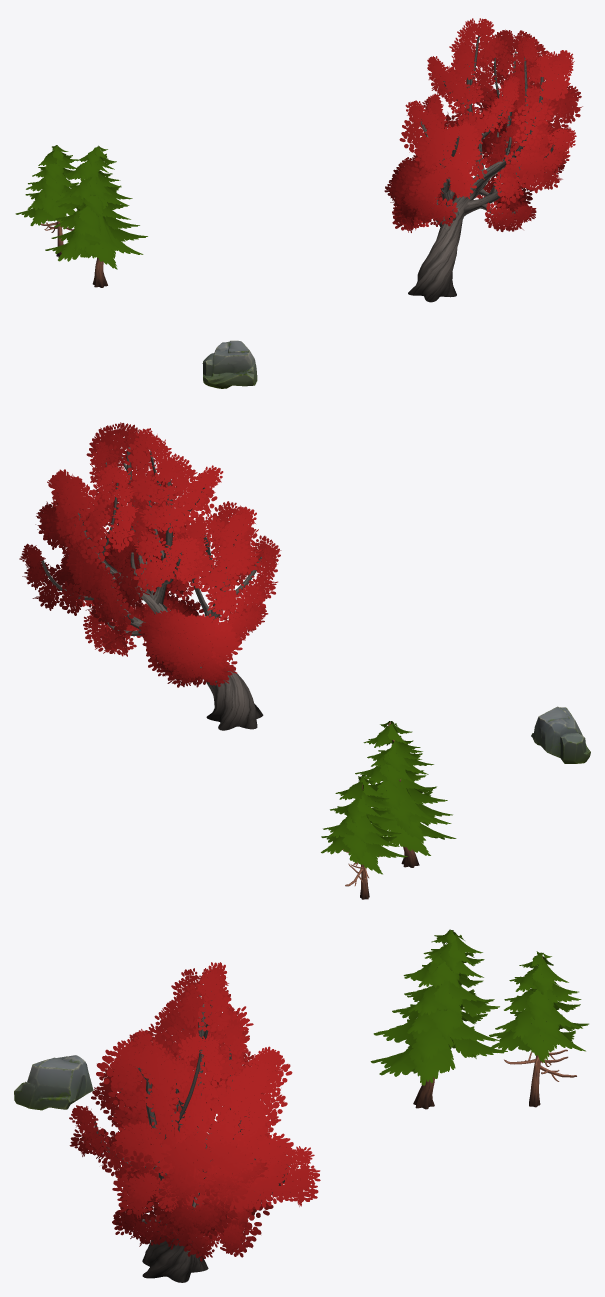
The model's file is TREEZ_NATURE Pack TST.glb.
The picture shows the model from 3 angles, top to bottom: view 1: azimuth 30°, elevation 25°; view 2: azimuth 150°, elevation 25°; view 3: azimuth 270°, elevation 25°; orthographic projection. The views are drawn at different scales.
Parts seen in each view (by area): view 1: TwistedTree_1, Pine_5, TwistedTree_1.001, Pine_1, Rock_Medium_3; view 2: TwistedTree_1, Pine_5, TwistedTree_1.001, Pine_1, Rock_Medium_3; view 3: TwistedTree_1, Pine_5, Pine_1, Rock_Medium_3, TwistedTree_1.001, Pine_1.001.
Part boxes in pixels (x1=…): TwistedTree_1: x1=384, y1=18, x2=582, y2=232; Pine_5: x1=45, y1=145, x2=147, y2=269; TwistedTree_1.001: x1=408, y1=35, x2=558, y2=302; Pine_1: x1=15, y1=145, x2=78, y2=225; Rock_Medium_3: x1=202, y1=340, x2=257, y2=388; TwistedTree_1: x1=19, y1=422, x2=281, y2=687; Pine_5: x1=355, y1=721, x2=456, y2=855; TwistedTree_1.001: x1=41, y1=447, x2=263, y2=730; Pine_1: x1=321, y1=775, x2=407, y2=874; Rock_Medium_3: x1=531, y1=706, x2=590, y2=763; TwistedTree_1: x1=69, y1=962, x2=320, y2=1261; Pine_5: x1=370, y1=929, x2=507, y2=1085; Pine_1: x1=489, y1=951, x2=588, y2=1062; Rock_Medium_3: x1=14, y1=1055, x2=93, y2=1110; TwistedTree_1.001: x1=94, y1=991, x2=289, y2=1282; Pine_1.001: x1=504, y1=957, x2=576, y2=1107.
Bounding box in the file's own units: 31.27 × 16.84 × 25.15.
Materials: 7 (7 with a texture image).
